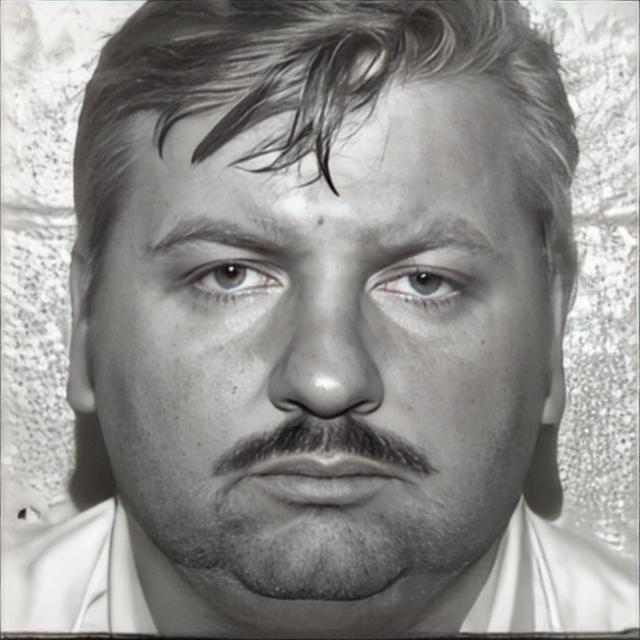anger: (92, 66, 536, 596)
